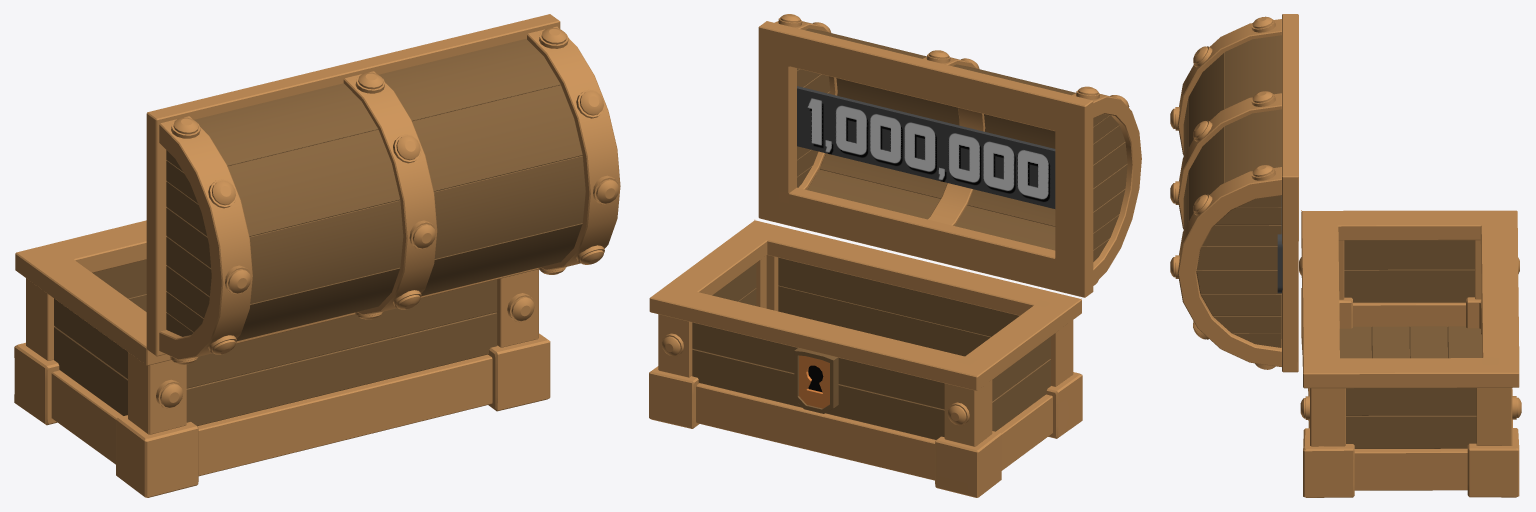
File: suitcase2.glb
3 renders of one model, left to right at view 1: azimuth 30°, elevation 25°; view 2: azimuth 150°, elevation 25°; view 3: azimuth 270°, elevation 25°, orthographic. The views are drawn at different scales.
Parts seen in each view (by area): view 1: lid, bottom; view 2: bottom, lid; view 3: bottom, lid.
Boxes of the visible parts, left/top/right/bottom form: lid: left=146, top=14, right=620, bottom=364; bottom: left=14, top=220, right=550, bottom=497; bottom: left=649, top=219, right=1082, bottom=497; lid: left=758, top=14, right=1141, bottom=297; bottom: left=1299, top=210, right=1521, bottom=497; lid: left=1170, top=14, right=1298, bottom=372.
Bounding box in the file's own units: 293 × 269 × 265.
5 materials, 1 textured.
